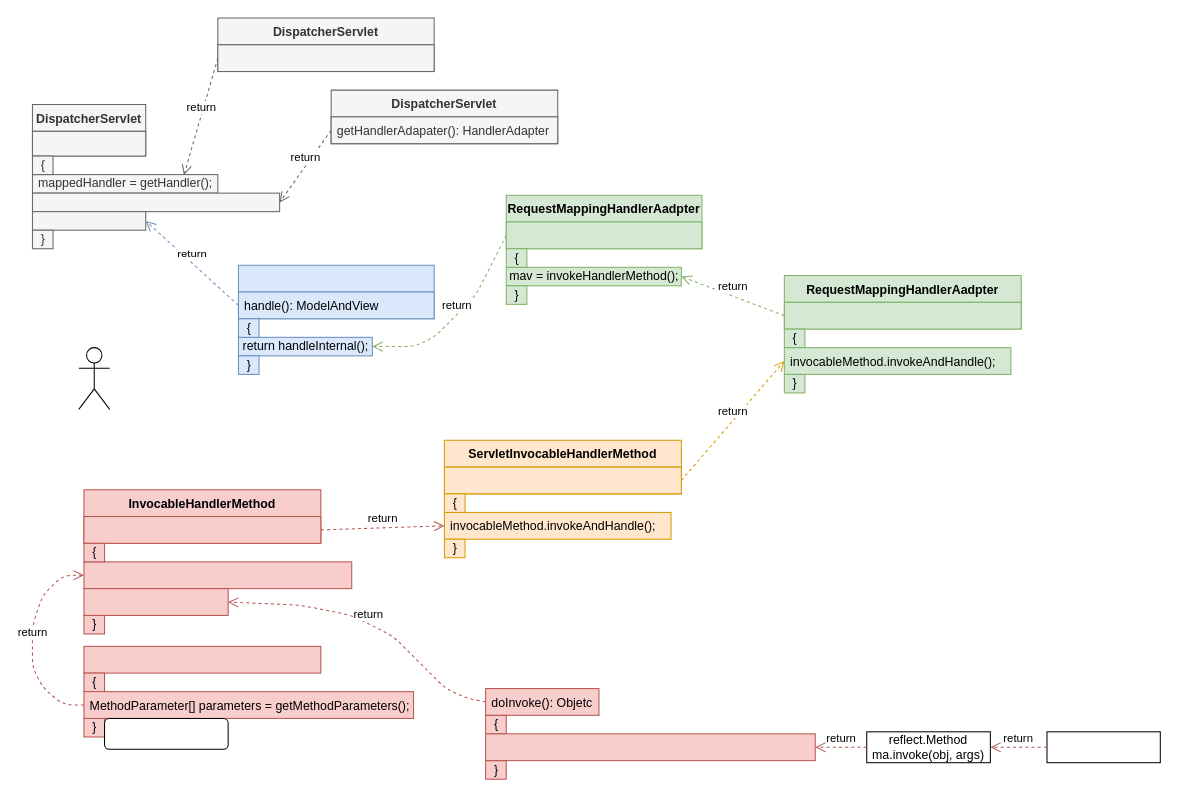
Some shapes in this 1178 by 797 pixel diagram are drawn without their labels. The box of each missing label's shape, as (x1, y1, x2, y2) in pixels:
AbstractHandlerMethodAdapter: (237, 264, 434, 319)
doDispatch(): void: (31, 130, 146, 156)
getHandler(): HandlerExecutionChain: (217, 44, 434, 72)
getMethodArgumentValues(): Objetc[]: (83, 645, 321, 673)
handleInternal(): ModelAndView: (505, 221, 702, 249)
HandlerAdapter ha = getHandlerAdapter();: (31, 192, 280, 212)
HandlerMethod: (1046, 731, 1160, 763)
invokeAndHandle(): void: (443, 466, 681, 494)
invokeForRequest(): Object: (83, 516, 321, 543)
invokeHandlerMethod(): ModelAndView: (783, 301, 1021, 329)
mv = ha.handle();: (31, 211, 146, 230)
Object[] args = getMethodArgumentValues();: (83, 561, 352, 589)
Oracle: (78, 347, 110, 409)
return doInvoke(args);: (83, 588, 228, 615)
return getBridgedMethod().invoke(getBean(), args): (485, 733, 815, 761)
获取handlerMethod的参数列表数据类型: (104, 717, 228, 749)
